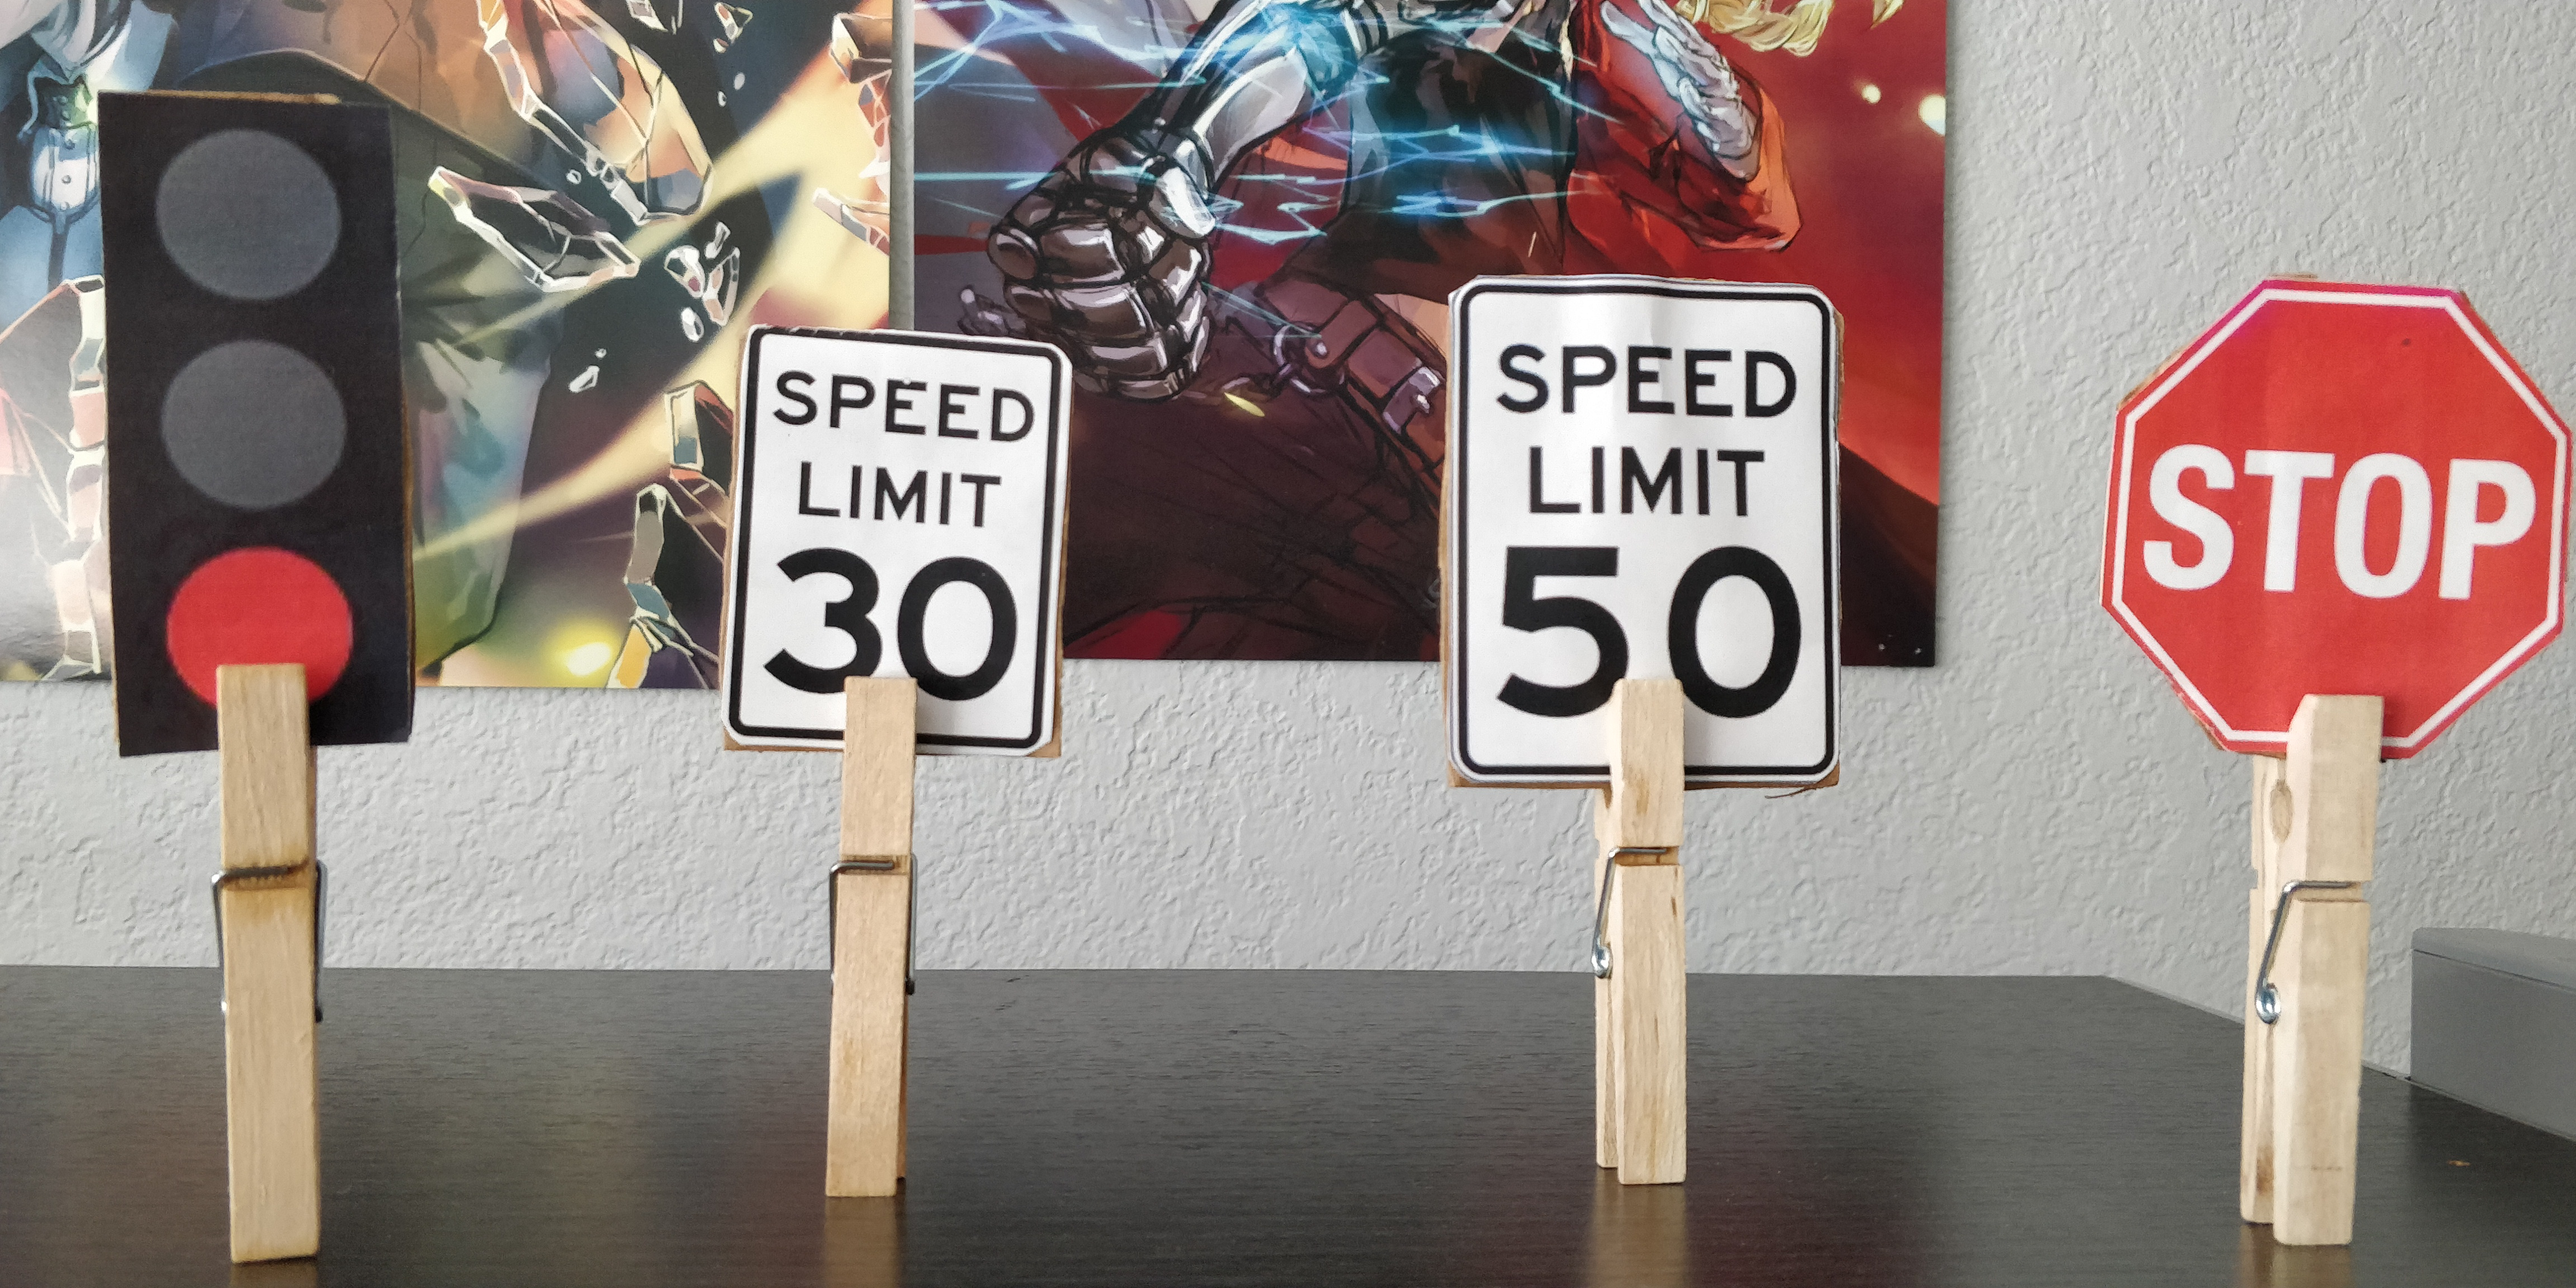Speed Limit 30: (721, 320, 1063, 757)
Speed Limit 50: (1442, 278, 1842, 794)
Stop Sign: (2105, 279, 2568, 756)
red light: (95, 90, 412, 756)
